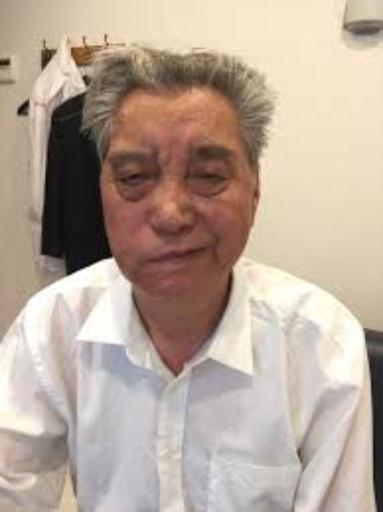left_eye: (191, 168, 229, 186)
left_lip_corner: (198, 242, 212, 257)
right_eye: (116, 170, 155, 187)
right_lip_corner: (147, 257, 160, 269)
